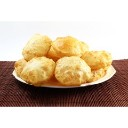poori: (57, 57, 91, 84), (22, 58, 54, 84), (53, 34, 86, 56), (22, 33, 50, 58), (82, 50, 113, 68)
